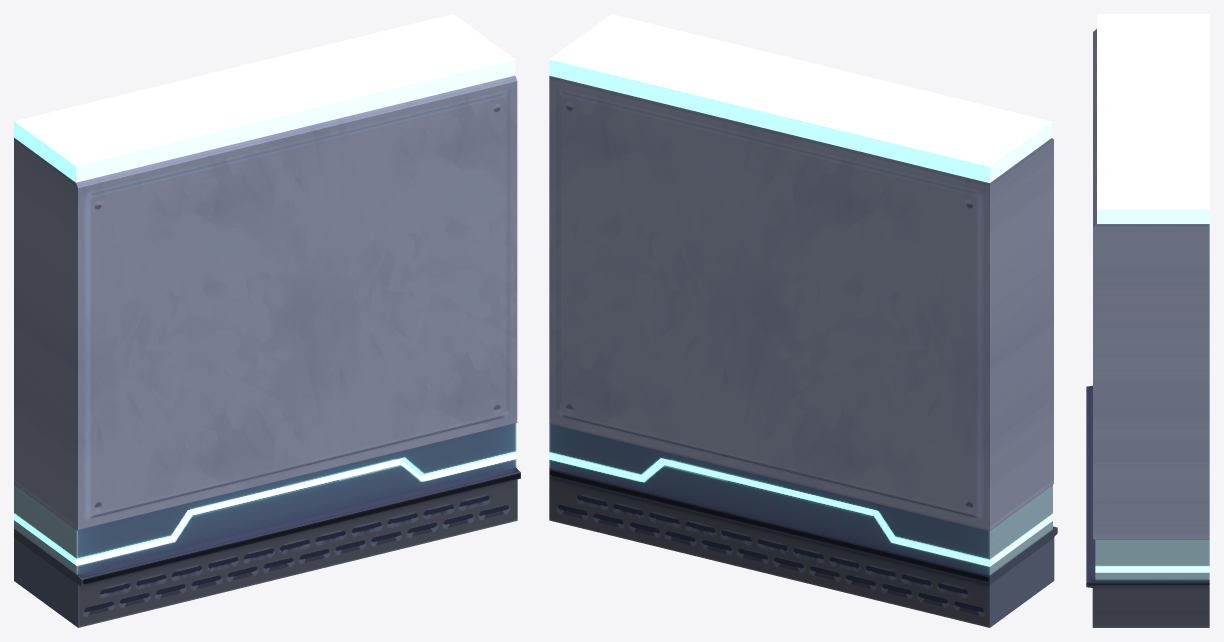
Rendered from floor1_low.fbx.
The picture shows the model from 3 angles, left to right: view 1: azimuth 30°, elevation 25°; view 2: azimuth 150°, elevation 25°; view 3: azimuth 270°, elevation 25°; orthographic projection. The views are drawn at different scales.
Visible parts, largest first — view 1: floor1_low; view 2: floor1_low; view 3: floor1_low.
Boxes of the visible parts, <box> form: floor1_low: <box>14,14,520,627</box>; floor1_low: <box>549,14,1057,627</box>; floor1_low: <box>1086,14,1209,627</box>.
Size of the model in its own units: 150 by 150 by 40.
